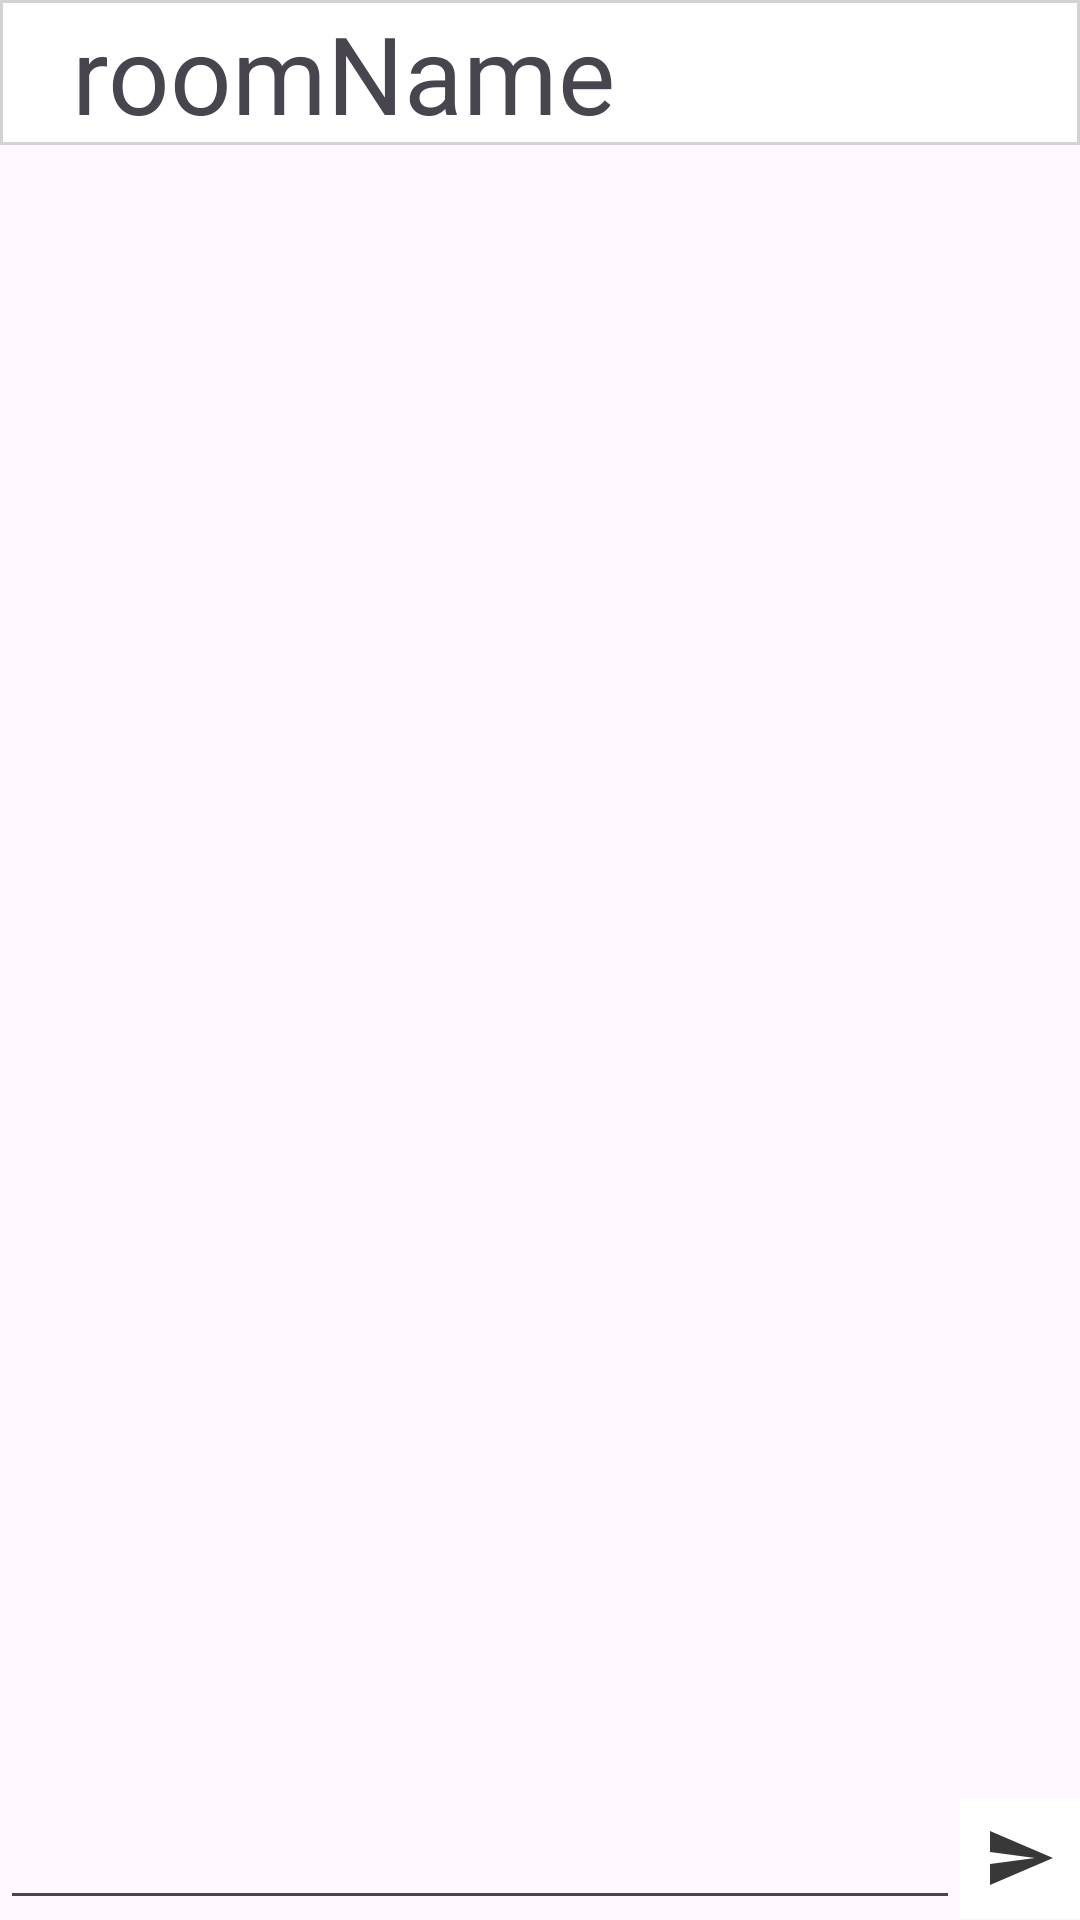

Where to tap for icons on this 1080px x 1920px app screen, as (x,y):
send: (1021,1858)
